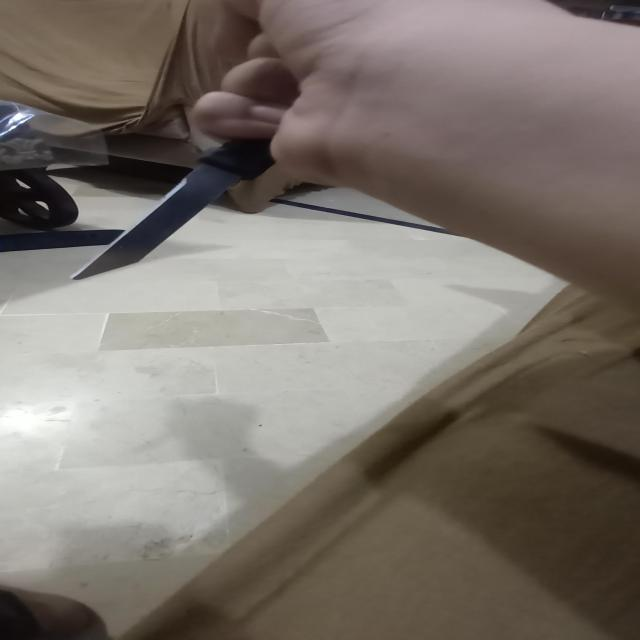Knife: (73, 137, 275, 279)
Person: (202, 0, 640, 312)
